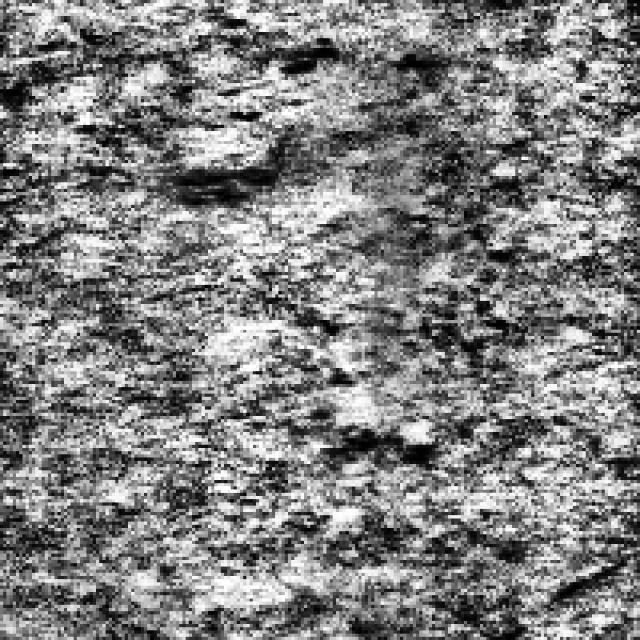Crazing: (317, 218, 502, 470), (170, 25, 342, 208)
